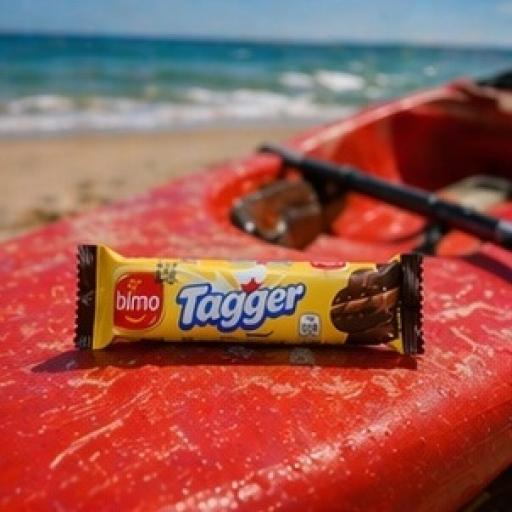tagger: (59, 179, 475, 408)
